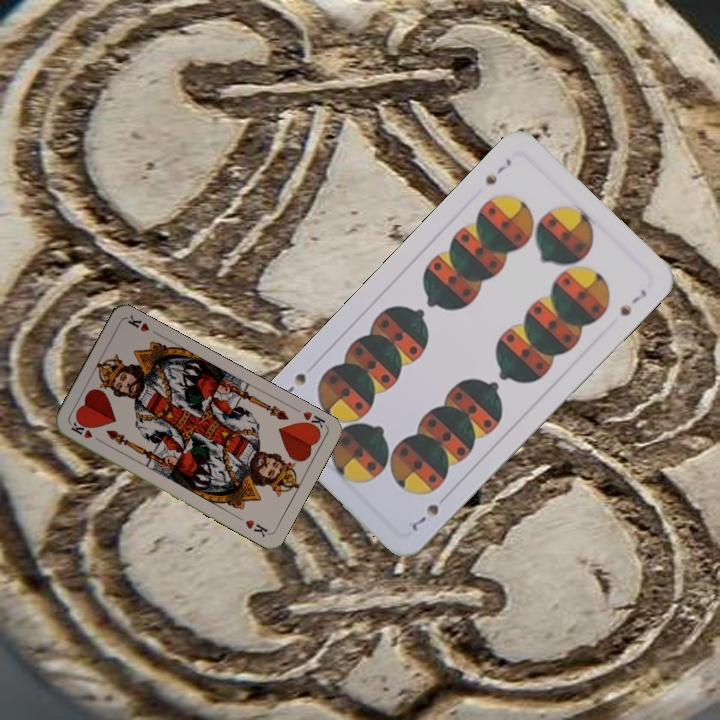HK: (67, 418, 105, 445), (298, 407, 328, 435)
S7: (403, 499, 442, 534), (481, 154, 514, 188)
